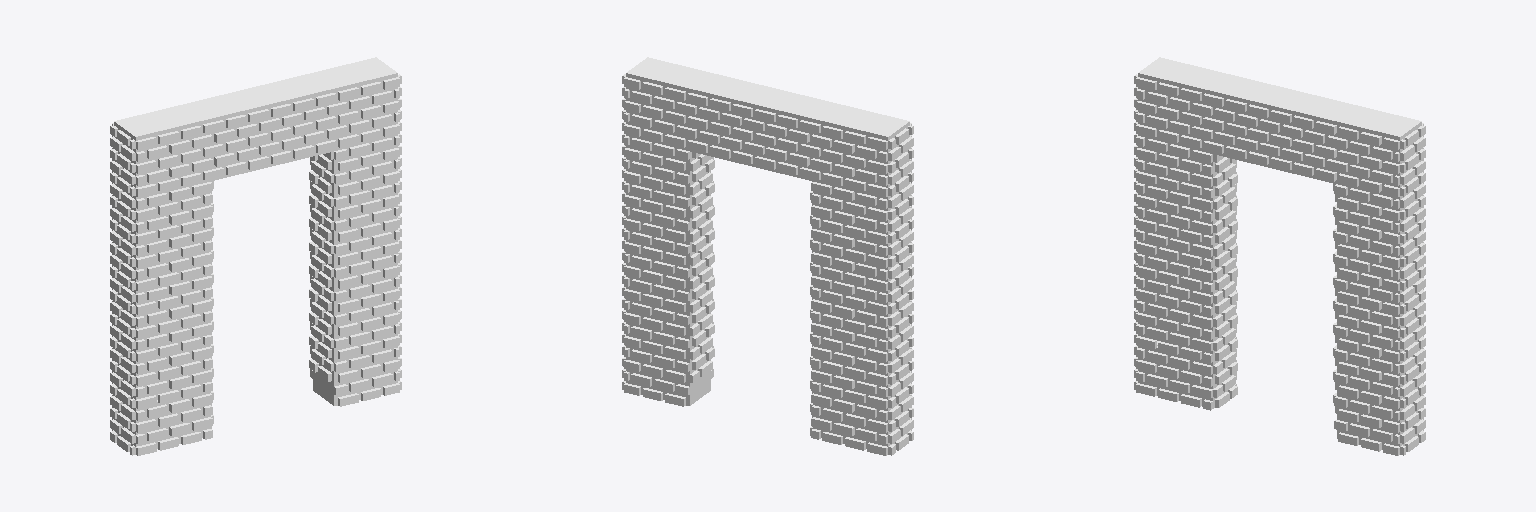
The model's file is DoorWall.obj.
3 views of the same model, side by side, from view 1: azimuth 30°, elevation 25°; view 2: azimuth 150°, elevation 25°; view 3: azimuth 330°, elevation 25° (orthographic).
Visible parts, largest first — view 1: object 1; view 2: object 1; view 3: object 1.
Part boxes in pixels (left/top/right/bottom): object 1: left=110, top=57, right=401, bottom=455; object 1: left=622, top=57, right=913, bottom=455; object 1: left=1134, top=57, right=1425, bottom=455.
Size of the model in its own units: 7.2 by 8.1 by 1.2.